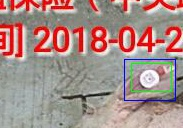text: (131, 63, 171, 91)
